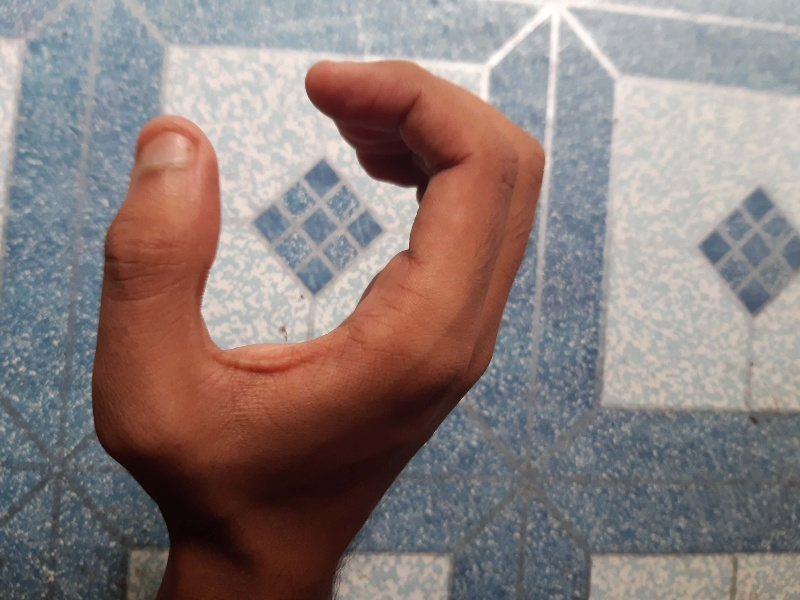one: (46, 40, 584, 540)
